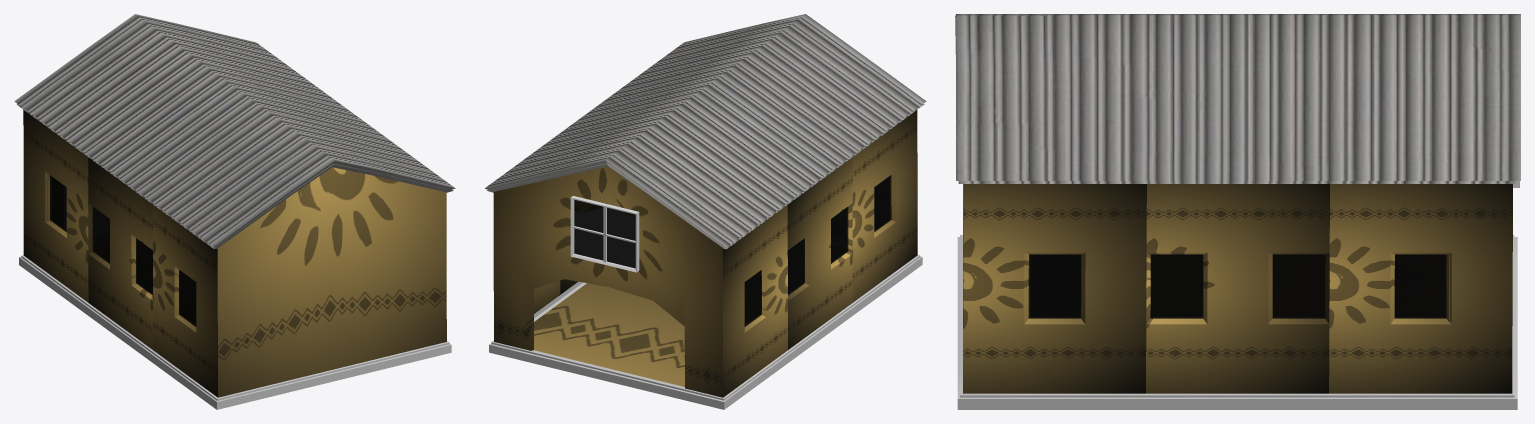
The model's file is barn.fbx.
3 views of the same model, side by side, from view 1: azimuth 30°, elevation 25°; view 2: azimuth 150°, elevation 25°; view 3: azimuth 270°, elevation 25° (orthographic). The views are drawn at different scales.
Visible parts, largest first — view 1: barn, barn1; view 2: barn, barn1, window; view 3: barn, barn1.
Boxes of the visible parts, x1,y1,x2,y2 form: barn: (14, 14, 455, 409); barn1: (16, 104, 453, 400); barn: (485, 14, 926, 409); barn1: (487, 104, 924, 400); window: (570, 196, 639, 272); barn: (955, 14, 1520, 409); barn1: (958, 181, 1517, 397).
Bounding box in the file's own units: 323 × 284 × 463.
